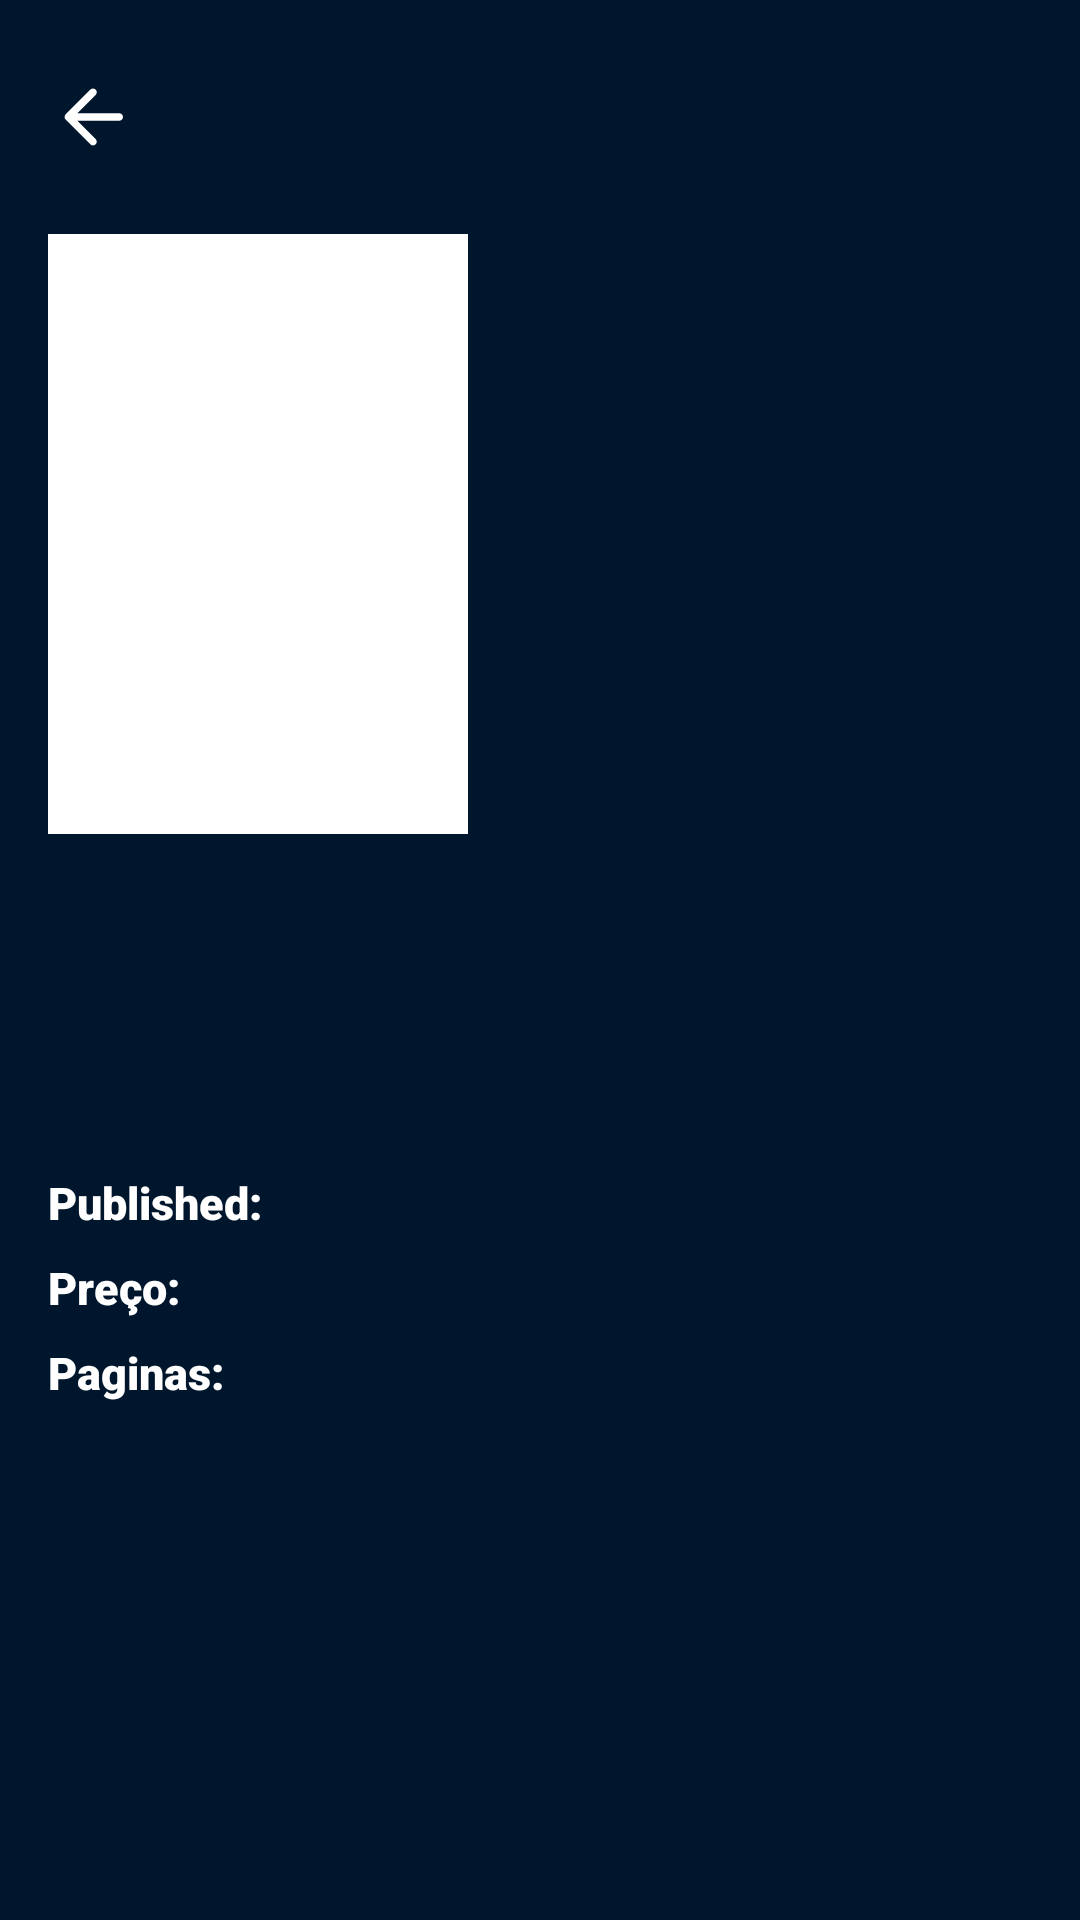

Screen size 1080px x 1920px. Icon name, then its center in pixels as (x=x, y=y):
seta: (x=93, y=117)
